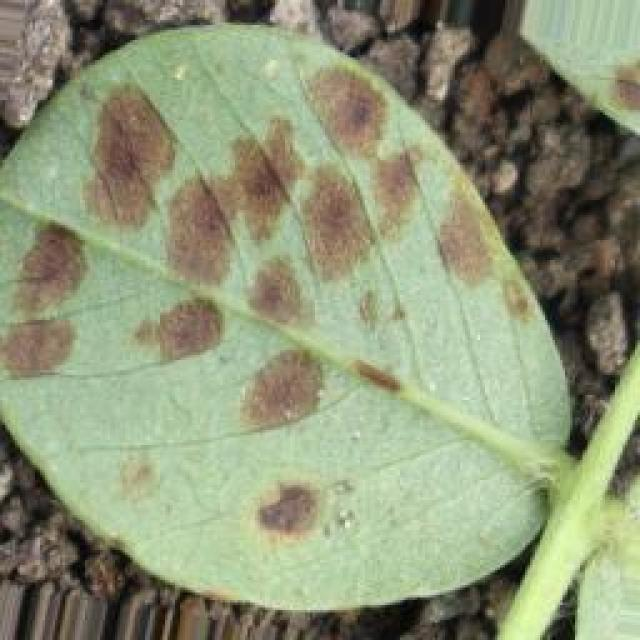Whitefly: (3, 0, 576, 563)
